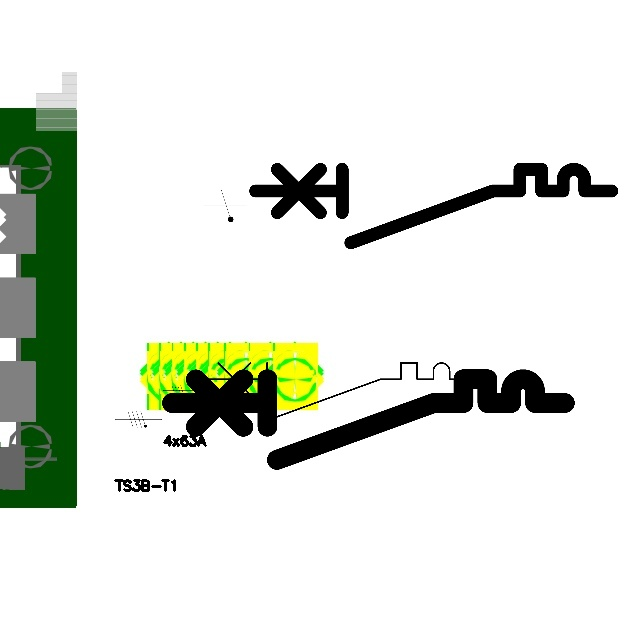interruptor_termomagnetico: (161, 369, 574, 470), (246, 160, 621, 251), (194, 356, 476, 425)
